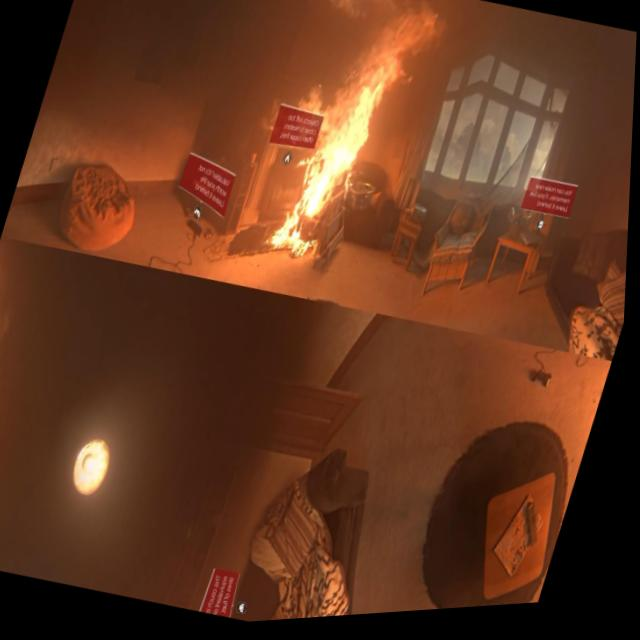fire: (261, 0, 440, 287)
